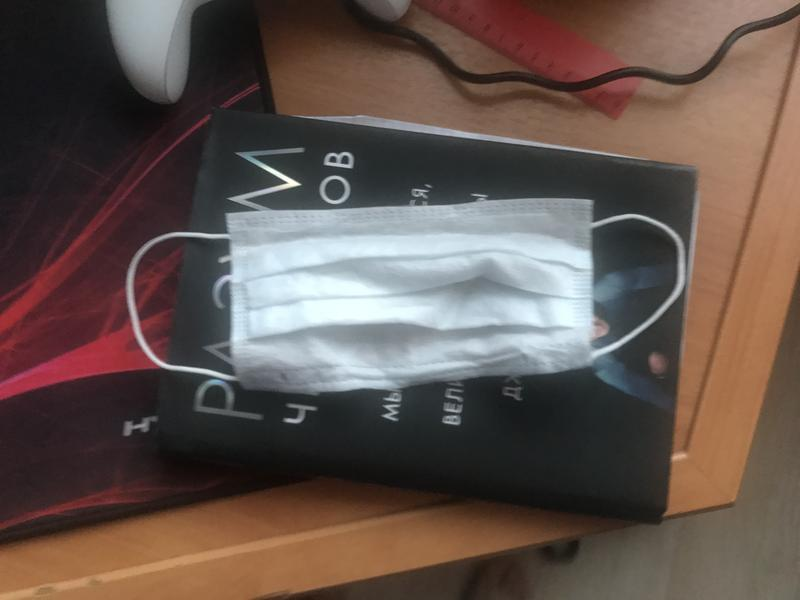medical_mask: (126, 200, 685, 390)
